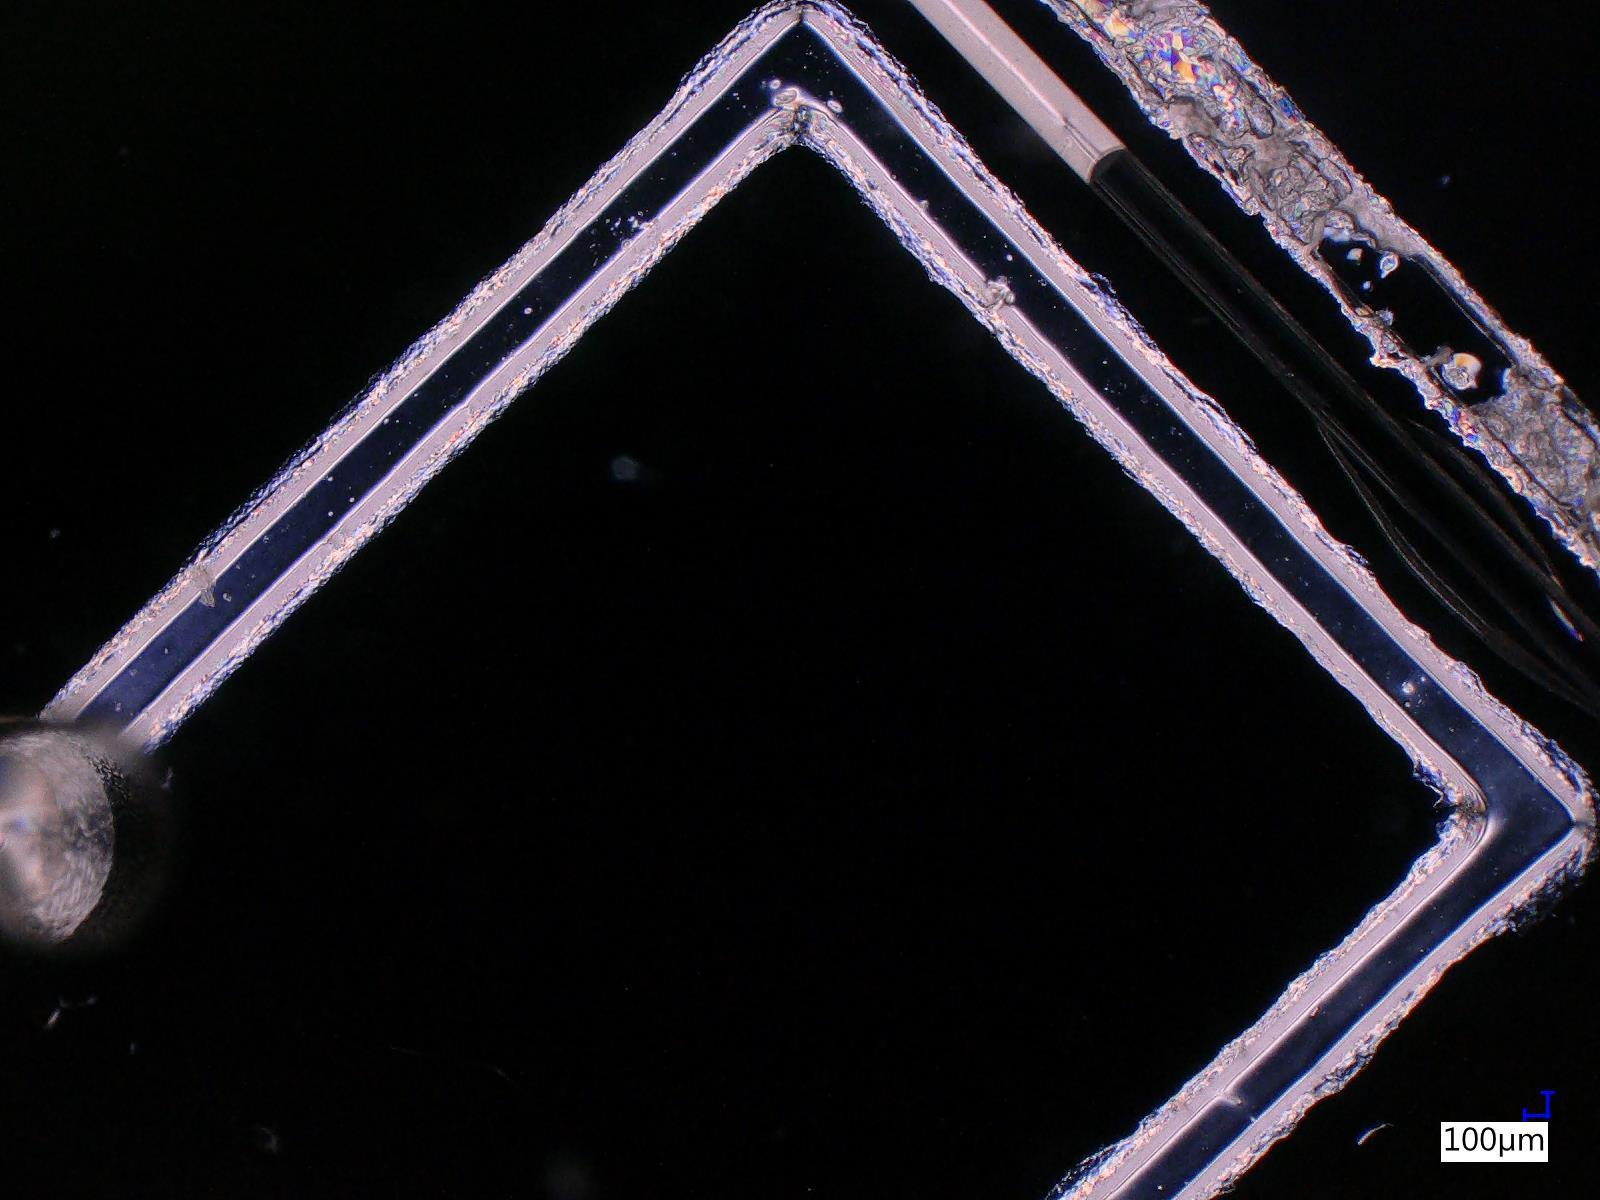sediment: (1110, 4, 1354, 242), (1492, 373, 1599, 504)
